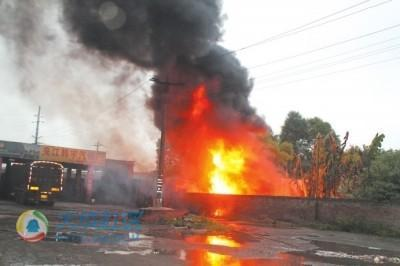fire: (199, 136, 249, 197)
